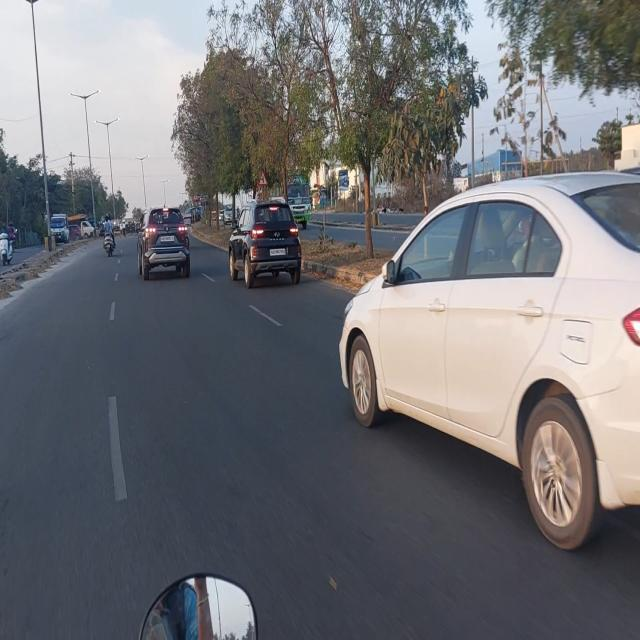bien_cam: (258, 169, 268, 187)
